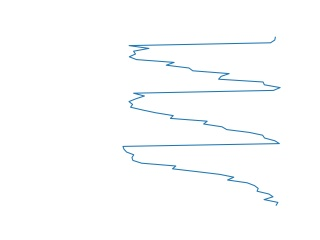distributaryMouthBar: (121, 36, 282, 209)
